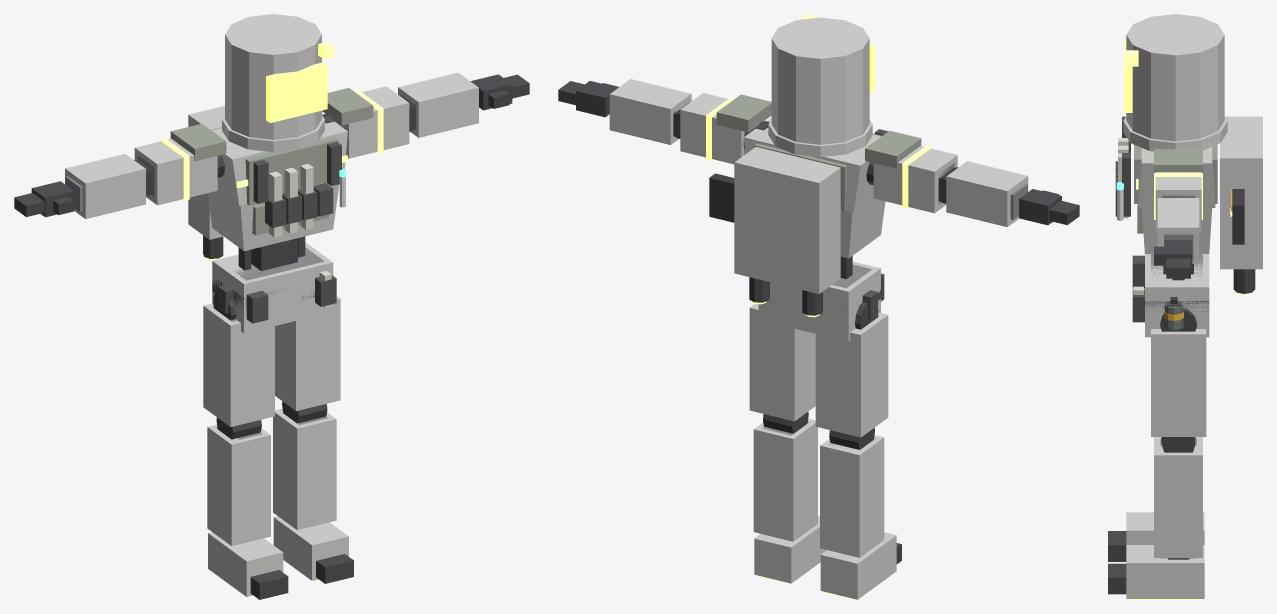
The model's file is char_F1_eva_boarder.glb.
3 views of the same model, side by side, from view 1: azimuth 30°, elevation 25°; view 2: azimuth 150°, elevation 25°; view 3: azimuth 270°, elevation 25° (orthographic).
Parts seen in each view (by area): view 1: Head_mesh, UpperChest_mesh, RightUpperLeg_mesh, RightLowerLeg_mesh, LeftLowerLeg_mesh, Hips_mesh, LeftUpperLeg_mesh, RightUpperArm_mesh, LeftUpperArm_mesh, RightLowerArm_mesh, LeftLowerArm_mesh, Chest_mesh (+7 smaller); view 2: UpperChest_mesh, Head_mesh, RightUpperLeg_mesh, RightLowerLeg_mesh, LeftLowerLeg_mesh, LeftUpperLeg_mesh, Hips_mesh, RightUpperArm_mesh, LeftUpperArm_mesh, RightLowerArm_mesh, LeftLowerArm_mesh, RightFoot_mesh (+5 smaller); view 3: Head_mesh, UpperChest_mesh, LeftUpperLeg_mesh, LeftLowerLeg_mesh, Hips_mesh, LeftFoot_mesh, LeftUpperArm_mesh, LeftLowerArm_mesh, LeftHand_mesh, Chest_mesh, RightFoot_mesh, Slot_ChargeSlot_1 (+4 smaller).
Part boxes in pixels (x1,y1,x2,y2): Head_mesh: (222,14,334,152); UpperChest_mesh: (188,106,347,260); RightUpperLeg_mesh: (203,291,274,427); RightLowerLeg_mesh: (207,417,270,545); LeftLowerLeg_mesh: (273,401,336,530); Hips_mesh: (212,242,336,333); LeftUpperLeg_mesh: (275,296,340,410); RightUpperArm_mesh: (134,123,226,205); LeftUpperArm_mesh: (322,86,409,158); RightLowerArm_mesh: (65,154,153,218); LeftLowerArm_mesh: (398,72,478,137); Chest_mesh: (207,184,339,251); UpperChest_mesh: (734,117,887,317); Head_mesh: (768,14,875,157); RightUpperLeg_mesh: (815,302,888,437); RightLowerLeg_mesh: (820,428,884,557); LeftLowerLeg_mesh: (753,412,817,541); LeftUpperLeg_mesh: (749,304,815,421); Hips_mesh: (758,261,884,341); RightUpperArm_mesh: (865,130,957,213); LeftUpperArm_mesh: (680,93,771,164); RightLowerArm_mesh: (938,161,1028,227); LeftLowerArm_mesh: (609,79,691,144); RightFoot_mesh: (820,532,896,599); Head_mesh: (1123,14,1227,151); UpperChest_mesh: (1115,116,1262,295); LeftUpperLeg_mesh: (1151,308,1206,436); LeftLowerLeg_mesh: (1154,437,1202,558); Hips_mesh: (1132,254,1209,337); LeftFoot_mesh: (1126,545,1204,599); LeftUpperArm_mesh: (1154,149,1202,231); LeftLowerArm_mesh: (1157,198,1199,263); LeftHand_mesh: (1154,240,1192,278); Chest_mesh: (1137,204,1212,253); RightFoot_mesh: (1126,512,1204,544); Slot_ChargeSlot_1: (1230,189,1244,244).
Size of the model in its own units: 1.92 by 1.95 by 0.505.
